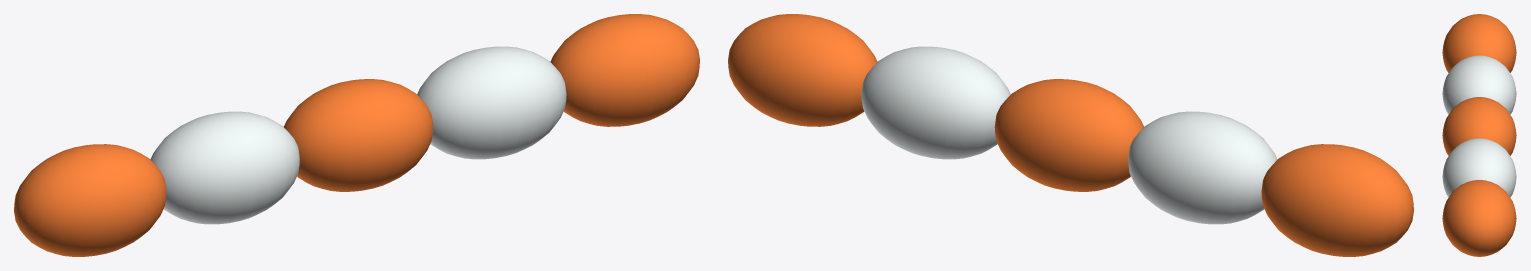
The model's file is Floating_barrier.glb.
3 views of the same model, side by side, from view 1: azimuth 30°, elevation 25°; view 2: azimuth 150°, elevation 25°; view 3: azimuth 270°, elevation 25° (orthographic). The views are drawn at different scales.
Parts seen in each view (by area): view 1: Floating segment, Floating segment.003, Floating segment.001, Floating segment.004, Floating segment.002; view 2: Floating segment, Floating segment.003, Floating segment.001, Floating segment.004, Floating segment.002; view 3: Floating segment.004, Floating segment.001, Floating segment.003, Floating segment.002, Floating segment.
Boxes of the visible parts, left/top/right/bottom form: Floating segment: left=14, top=144, right=166, bottom=256; Floating segment.003: left=417, top=46, right=566, bottom=159; Floating segment.001: left=150, top=111, right=299, bottom=224; Floating segment.004: left=550, top=14, right=699, bottom=126; Floating segment.002: left=284, top=79, right=433, bottom=191; Floating segment: left=1261, top=144, right=1413, bottom=256; Floating segment.003: left=861, top=46, right=1010, bottom=159; Floating segment.001: left=1128, top=111, right=1277, bottom=224; Floating segment.004: left=728, top=14, right=877, bottom=126; Floating segment.002: left=994, top=79, right=1143, bottom=191; Floating segment.004: left=1442, top=180, right=1516, bottom=256; Floating segment.001: left=1442, top=55, right=1516, bottom=114; Floating segment.003: left=1442, top=138, right=1516, bottom=197; Floating segment.002: left=1442, top=97, right=1516, bottom=155; Floating segment: left=1442, top=14, right=1516, bottom=72.
Bounding box in the file's own units: 2.28 × 0.32 × 0.34.
